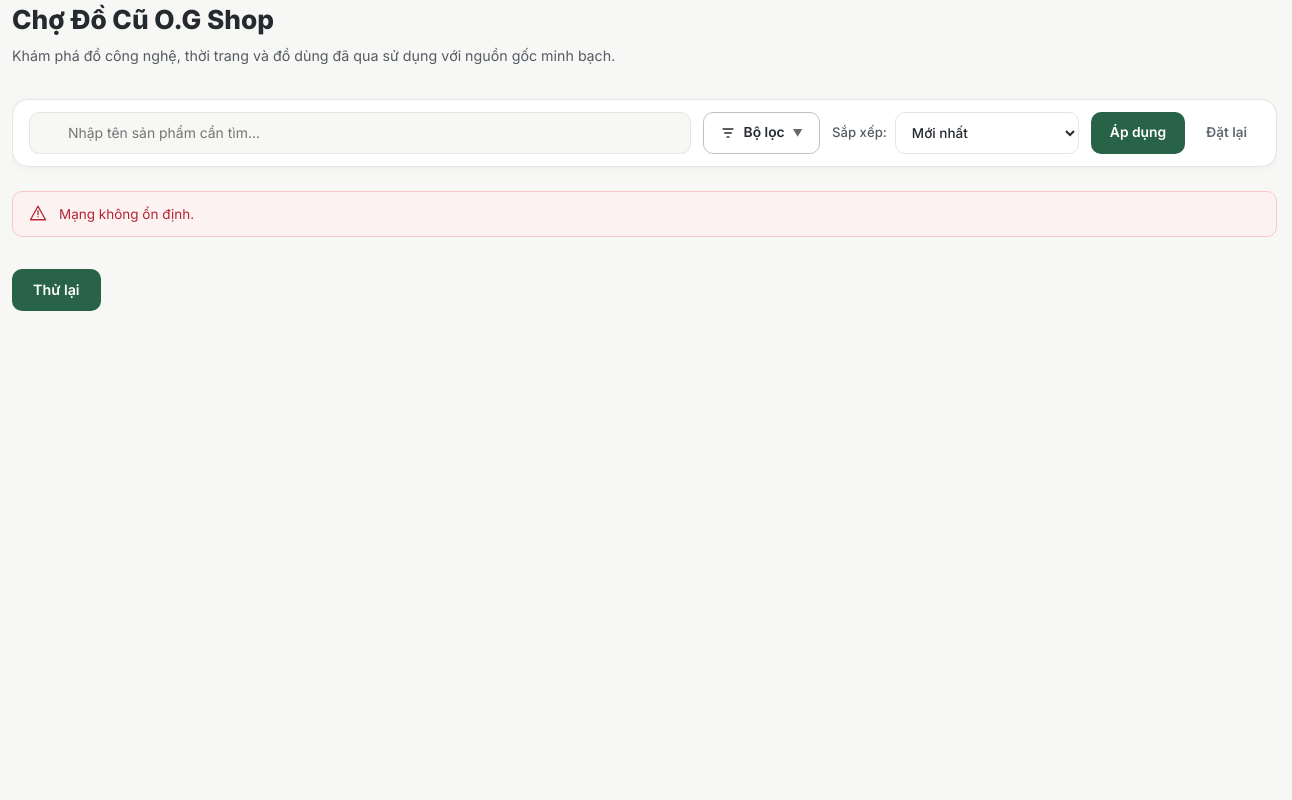
Test: MarketplacePage Component › handles API error and enables retry
The image size is (1292, 800).
Expected: the text "Mạng không ổn định." is shown, [59,206,194,222]
Click the button "Thử lại": point(56, 290) [12,269,101,311]
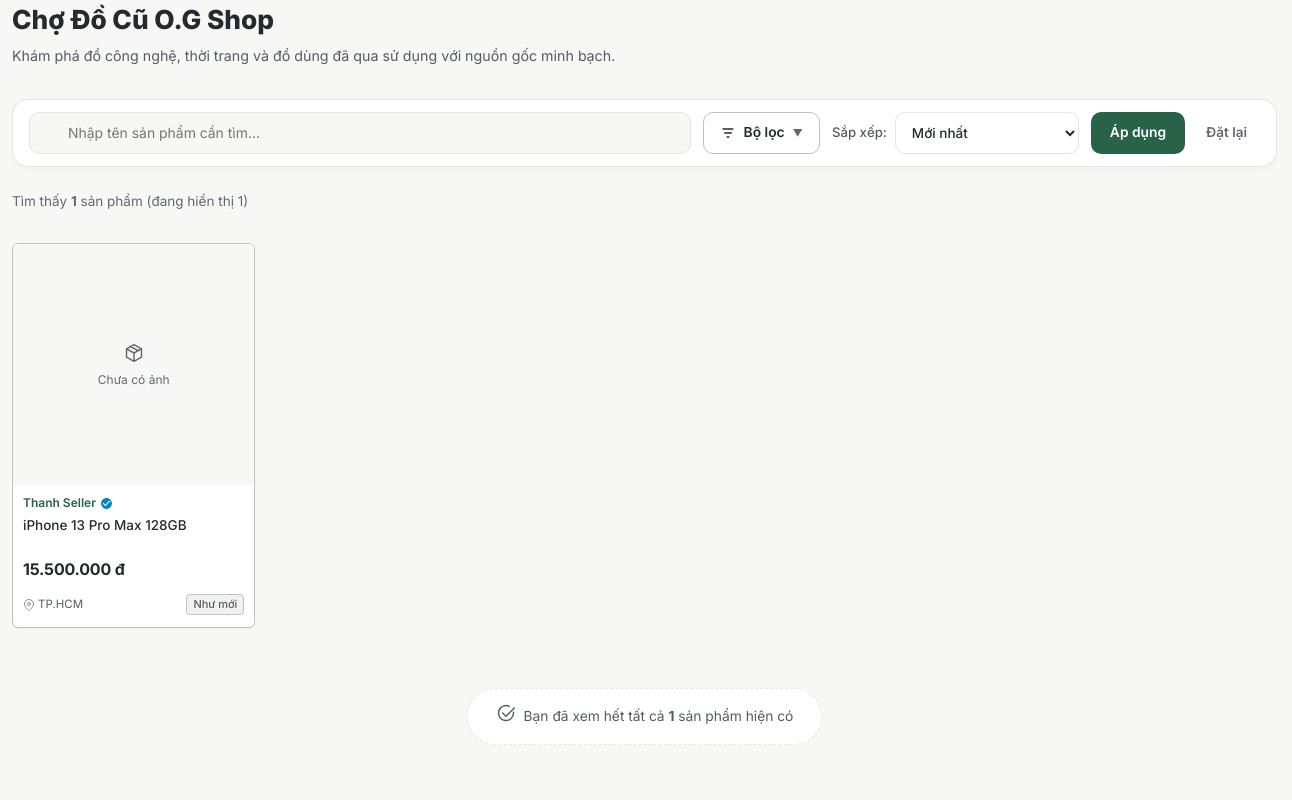
Expected: the heading "iPhone 13 Pro Max 128GB" is shown, [23,517,186,533]
